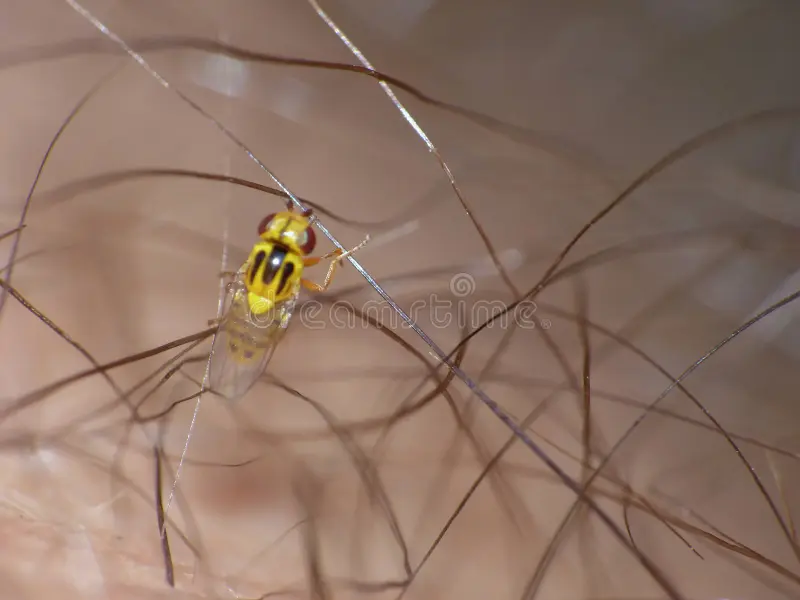Chloropidae: (210, 196, 376, 400)
